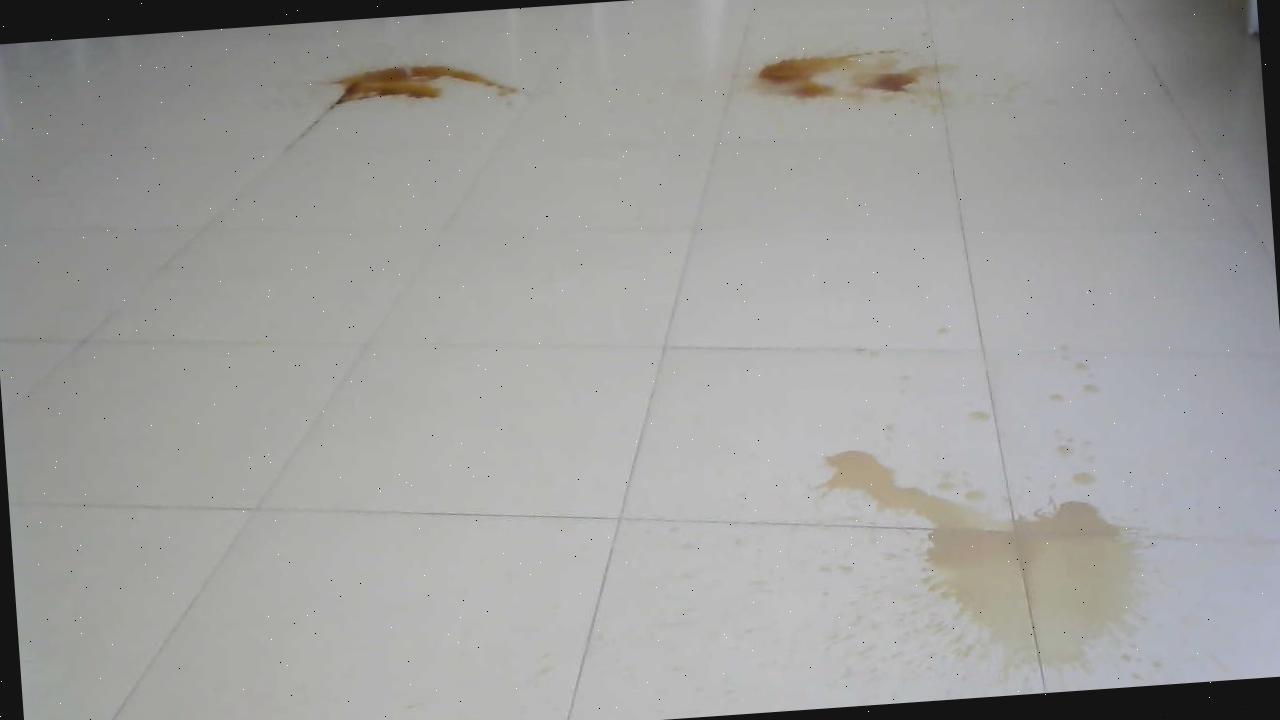dirty_floor: (814, 392, 1214, 692), (718, 17, 968, 124), (295, 44, 526, 134)
